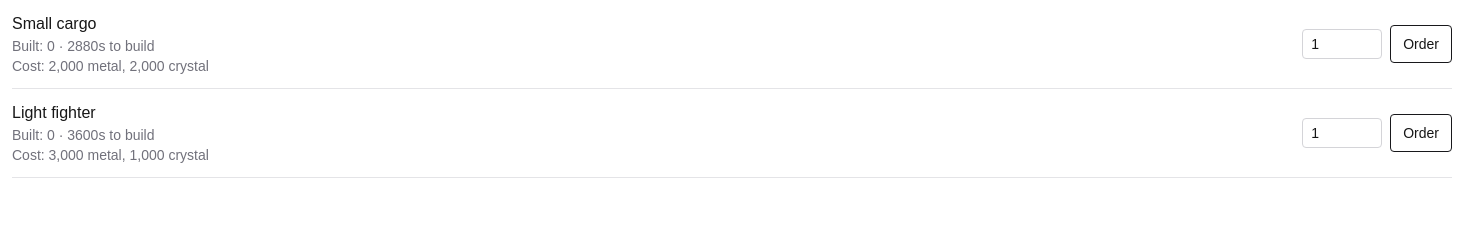
Test case: ShipyardView › shows 'This planet was not found.' when an order 404s
Expected: the text "Small cargo" is shown, [12, 15, 96, 32]
Click the button with aria-label "Order Small cargo".
click(1421, 44)  # box [1390, 25, 1452, 63]
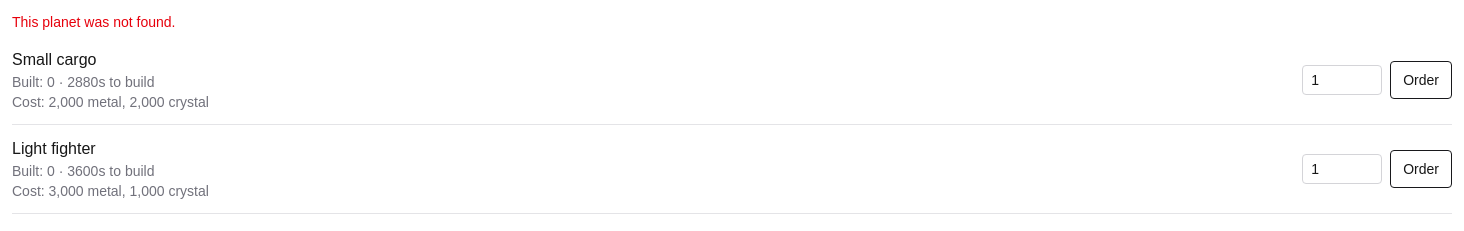
Now the message reads "This planet was not found.", box [12, 14, 175, 30]
